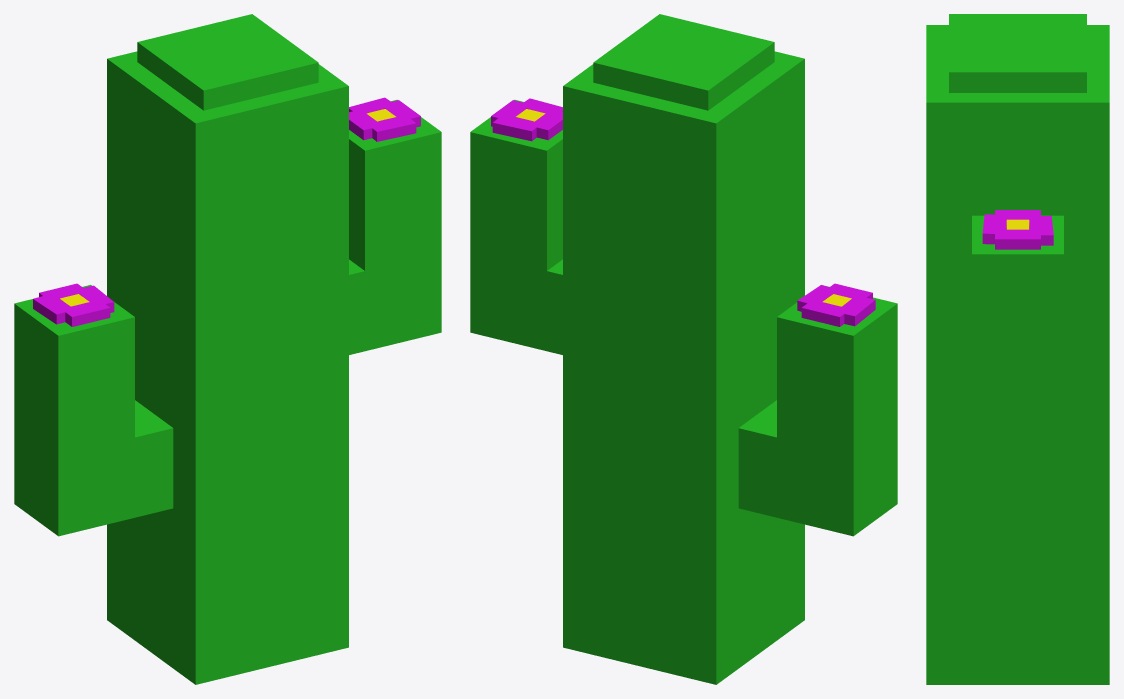
The model's file is cactus1.gltf.
3 views of the same model, side by side, from view 1: azimuth 30°, elevation 25°; view 2: azimuth 150°, elevation 25°; view 3: azimuth 270°, elevation 25° (orthographic). The views are drawn at different scales.
Visible parts, largest first — view 1: cube (×9); view 2: cube (×9); view 3: cube (×8).
Boxes of the visible parts, box(x1,y1,x2,y2) form: cube (×9): box(14, 14, 441, 684); cube (×9): box(470, 14, 897, 684); cube (×8): box(926, 14, 1109, 684).
Size of the model in its own units: 2.5 by 3.62 by 1.
Materials: 3 (3 with a texture image).
